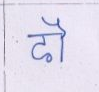au_matra: (45, 16, 71, 62)
